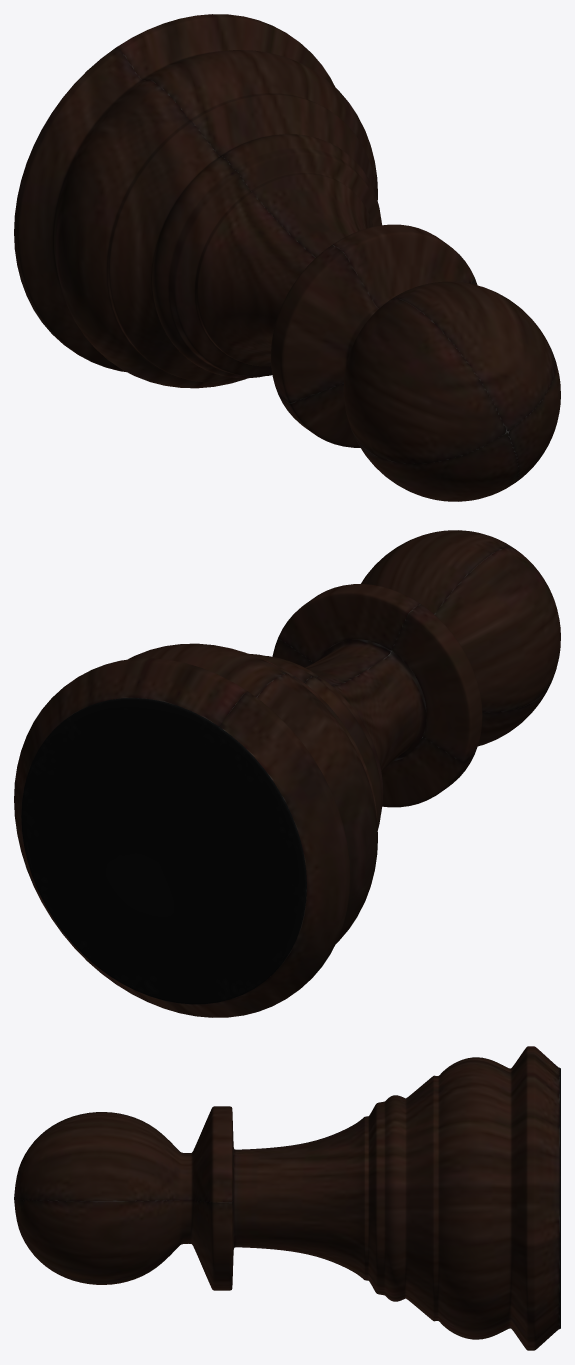
File: pawn.obj
3 renders of one model, top to bottom at view 1: azimuth 30°, elevation 25°; view 2: azimuth 150°, elevation 25°; view 3: azimuth 270°, elevation 25°, orthographic. The views are drawn at different scales.
Visible parts, largest first — view 1: pawn; view 2: pawn; view 3: pawn.
Part boxes in pixels (box(x1,y1,x2,y2)): pawn: box(14, 14, 560, 501); pawn: box(14, 530, 560, 1017); pawn: box(14, 1046, 560, 1350).
Size of the model in its own units: 4.56 by 4.56 by 8.17.
